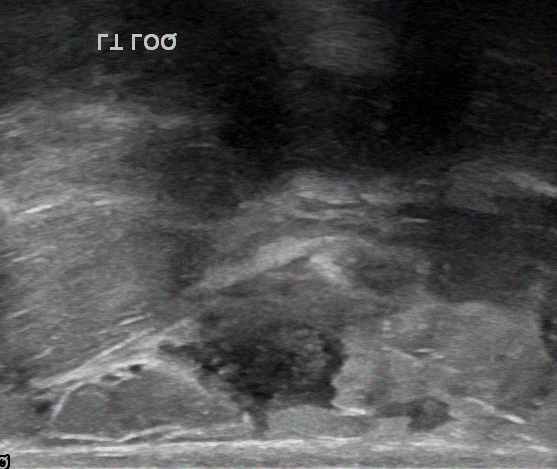Malignant: (190, 263, 344, 405)
